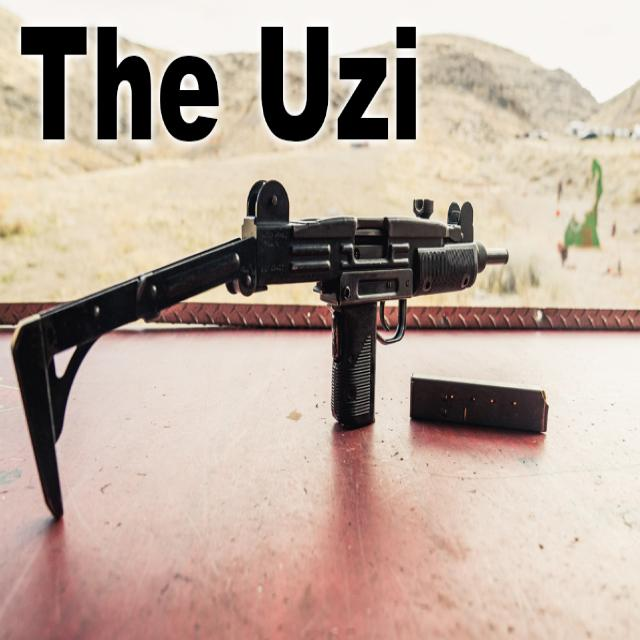SMG: (11, 184, 505, 520)
